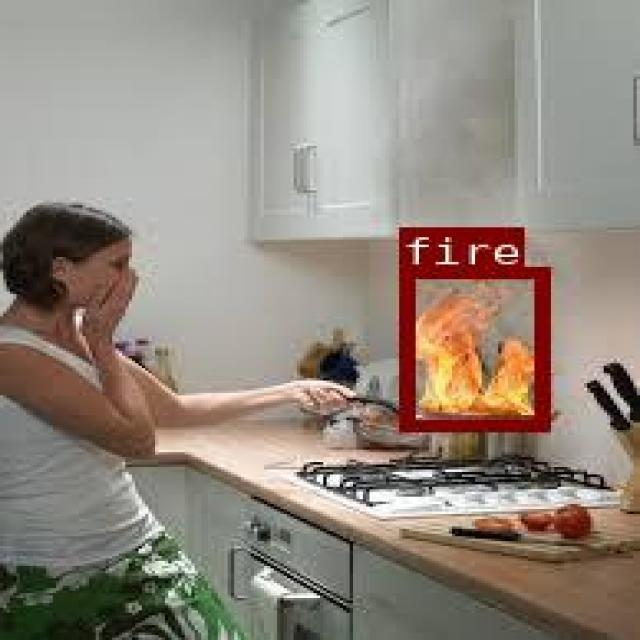fire: (398, 265, 546, 428)
